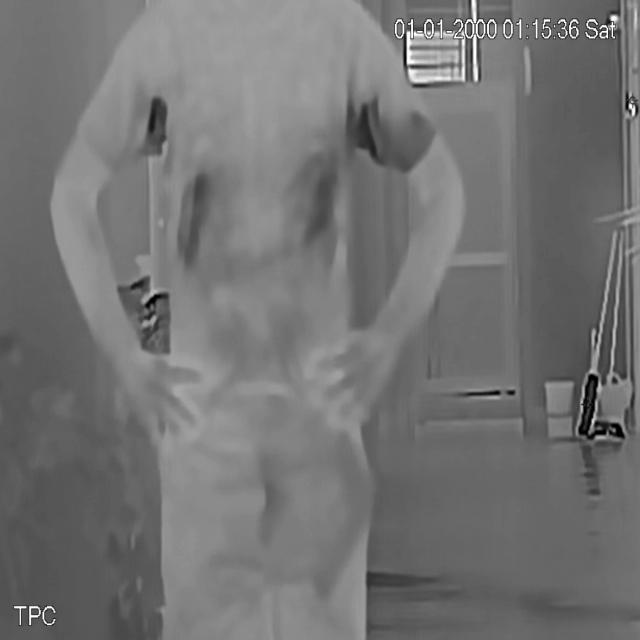Weapon: (304, 426, 388, 606)
